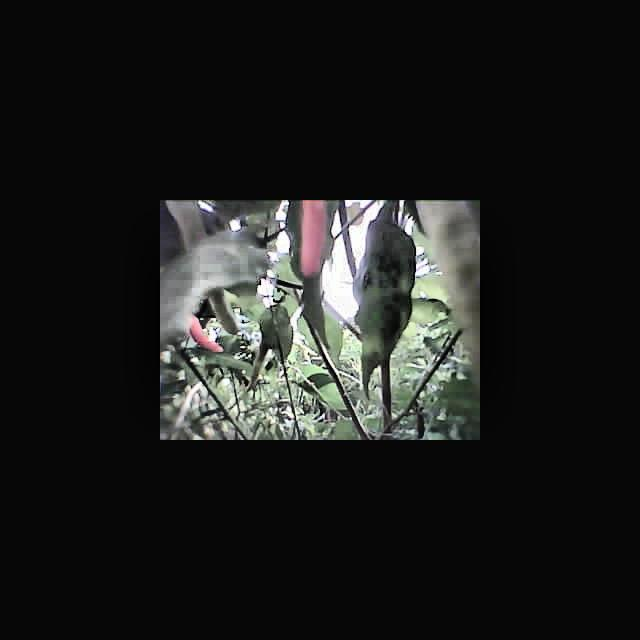Cabai: (296, 200, 325, 276), (188, 315, 222, 358)
